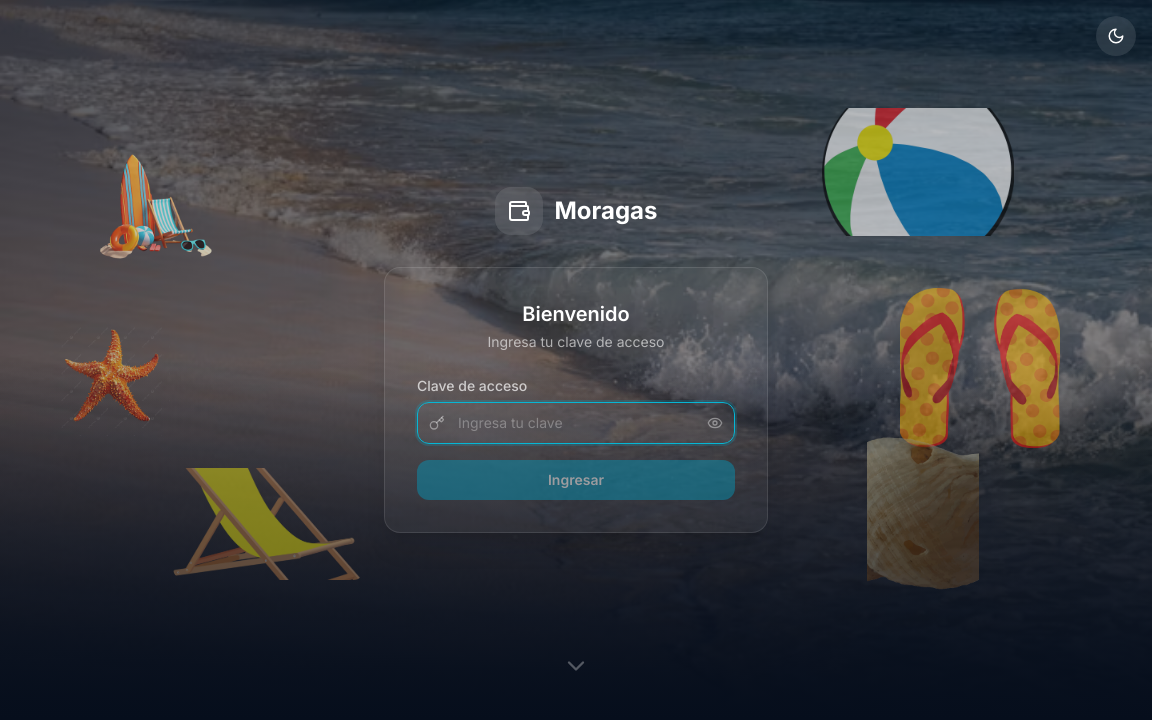
Test case: Login page › muestra error si login falla
The width and height of the screenshot is (1152, 720).
In the password field with placeholder "Ingresa tu clave": (576, 423) [417,402,735,444], type "mala"
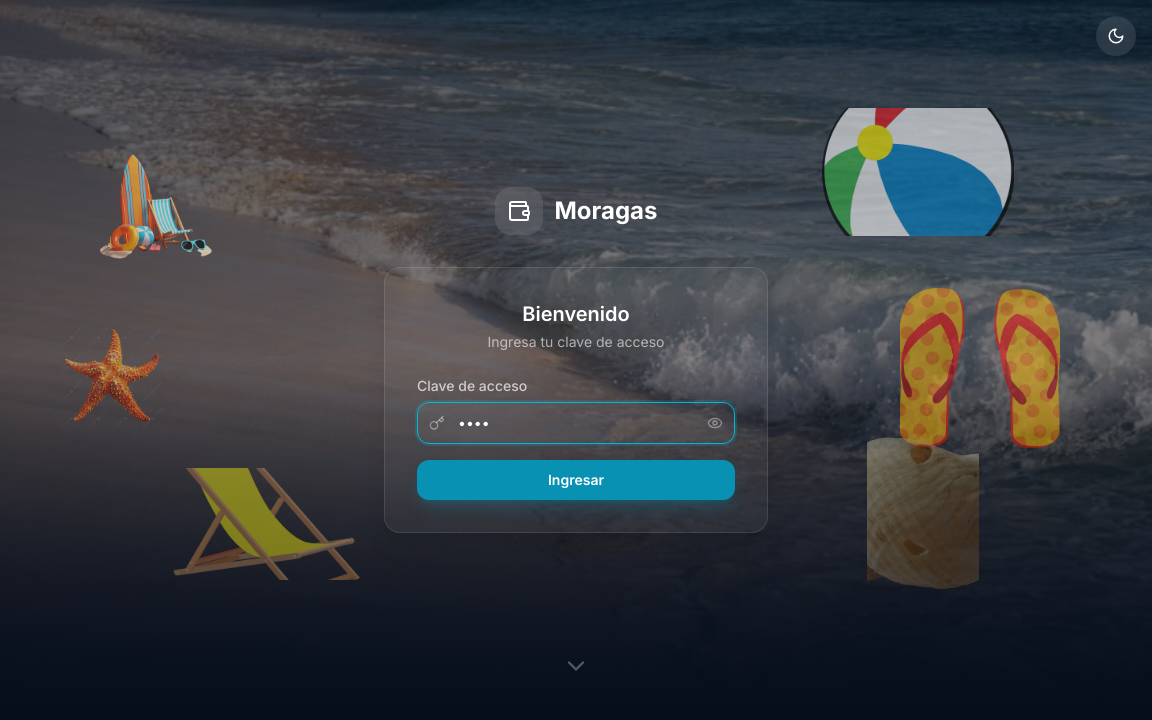
Click the button "Ingresar": click(576, 480) [417,460,735,500]
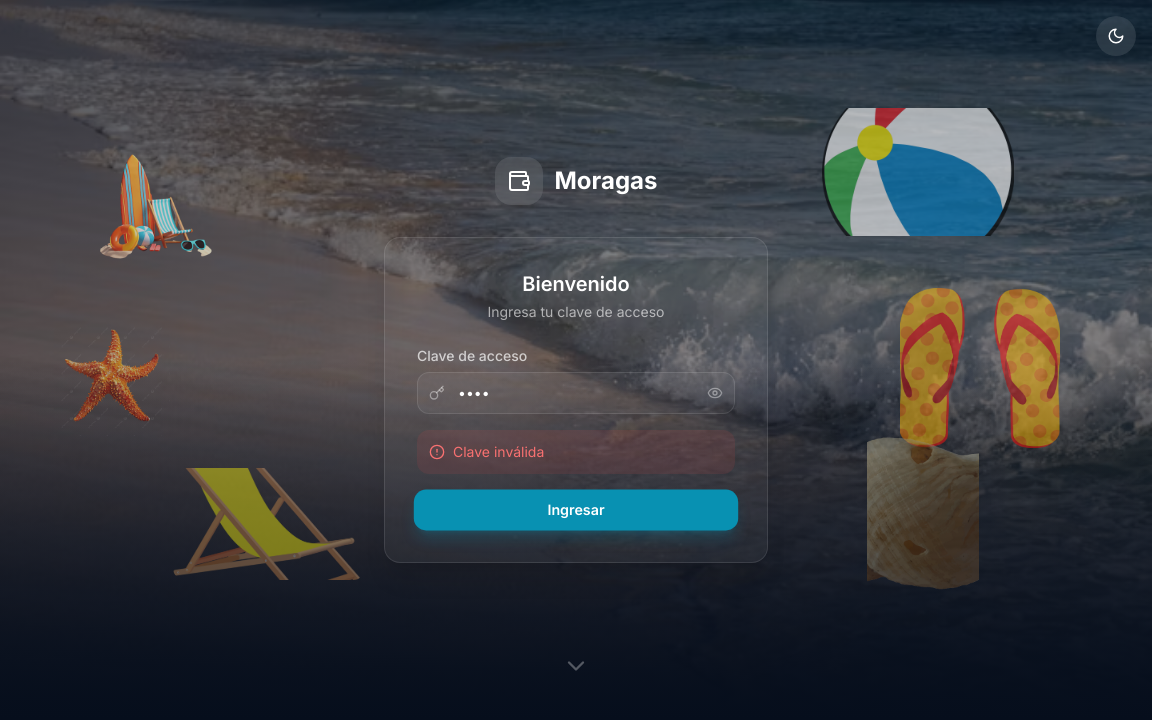
Expected: the text "Clave inválida" is shown, [417,430,735,474]
